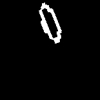chain: (39, 3, 60, 42)
